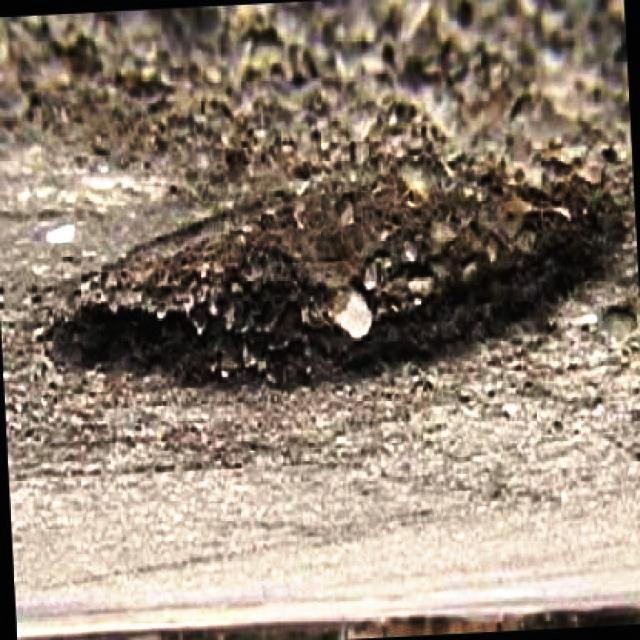pothole: (37, 134, 625, 397)
